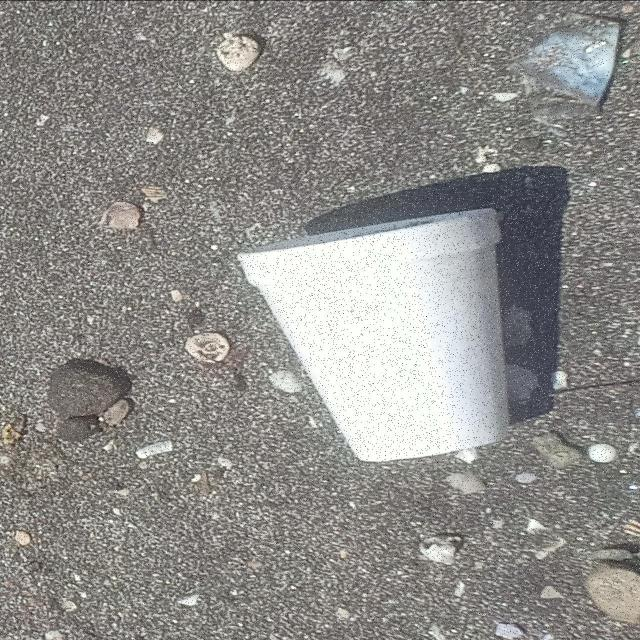plastic_waste: (233, 205, 517, 465)
